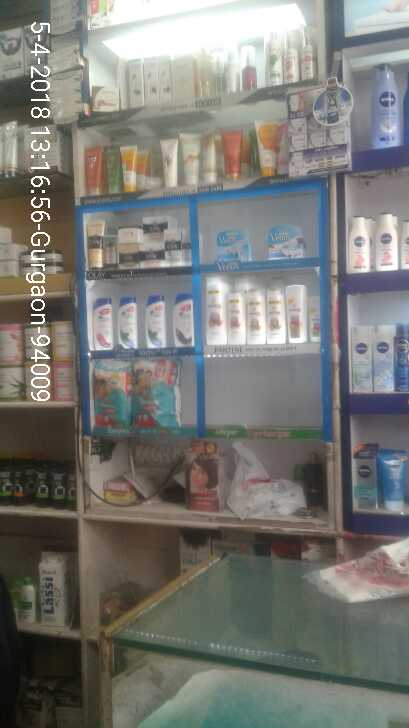venus: (266, 222, 307, 260), (215, 228, 252, 259)
